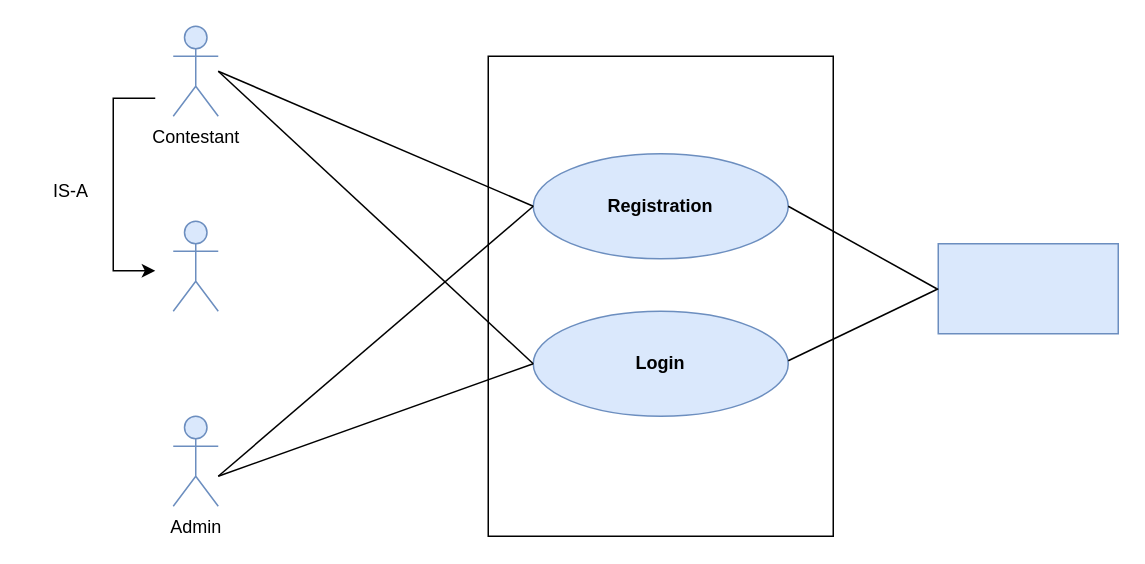
Some shapes in this 1145 by 564 pixel diagram are drawn without their labels. Here are the shapes that lost their labels. From the top down, the box of each, then its label:
(172, 220, 218, 311): Problem-Setter
(937, 242, 1118, 334): Email
